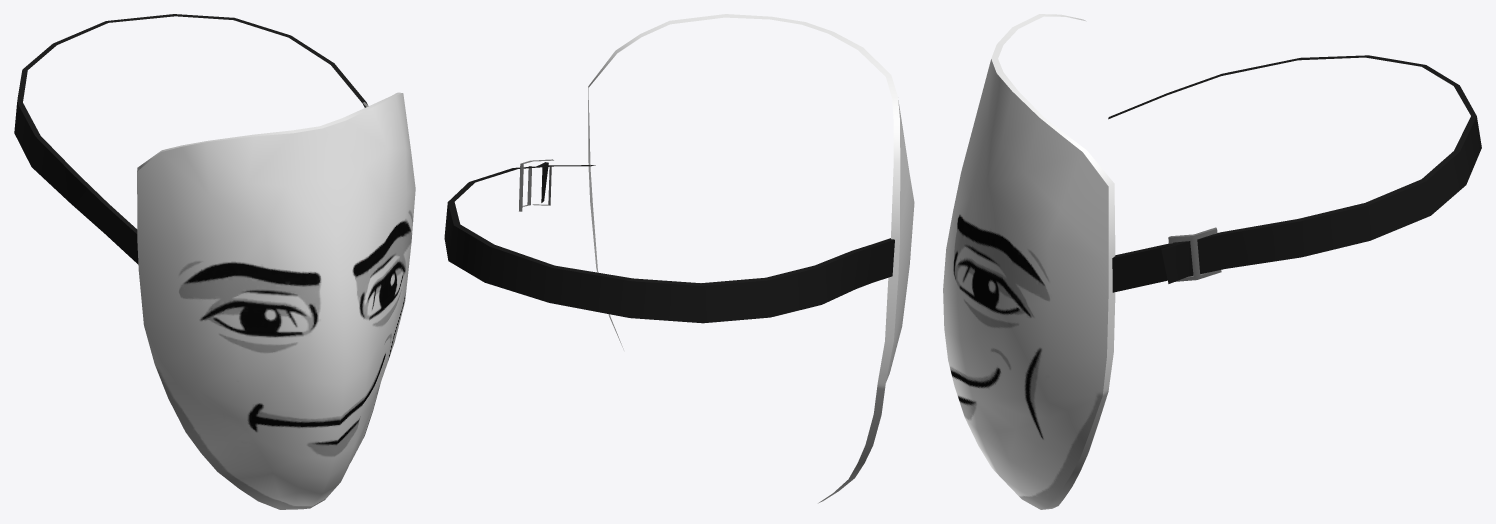
File: Meme Mask.glb
The picture shows the model from 3 angles, left to right: view 1: azimuth 30°, elevation 25°; view 2: azimuth 150°, elevation 25°; view 3: azimuth 270°, elevation 25°; orthographic projection. The views are drawn at different scales.
Parts seen in each view (by area): view 1: Meme Mask; view 2: Meme Mask; view 3: Meme Mask.
Boxes of the visible parts, <box> form: Meme Mask: <box>14,14,415,509</box>; Meme Mask: <box>444,14,914,503</box>; Meme Mask: <box>943,14,1481,509</box>.
Size of the model in its own units: 0.1737 by 0.2157 by 0.2371.
1 material, 1 textured.
